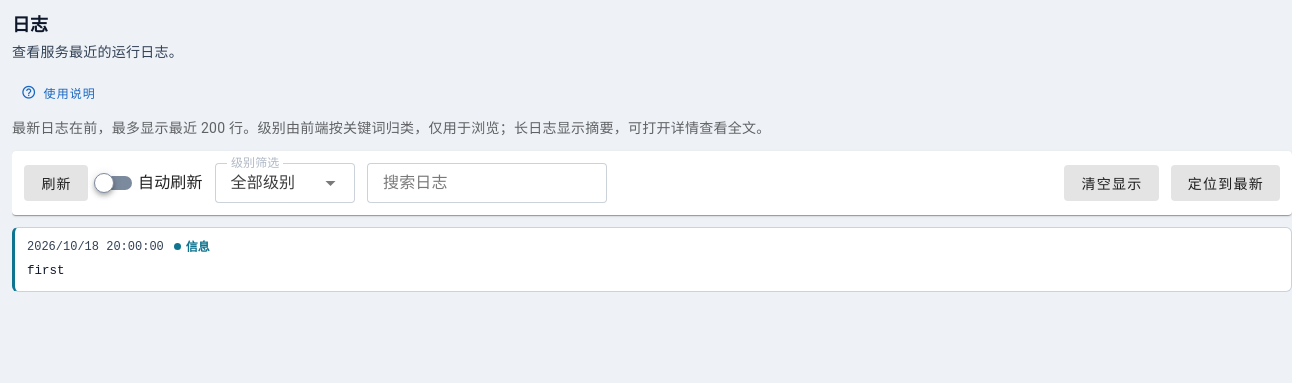
Test: LogsPage › 增量追加而非整表替换
What coordinates should you click on to do the following:
click the button with test id "refresh"
I would click on:
 (56, 183)
Its box is [24,165,88,201].
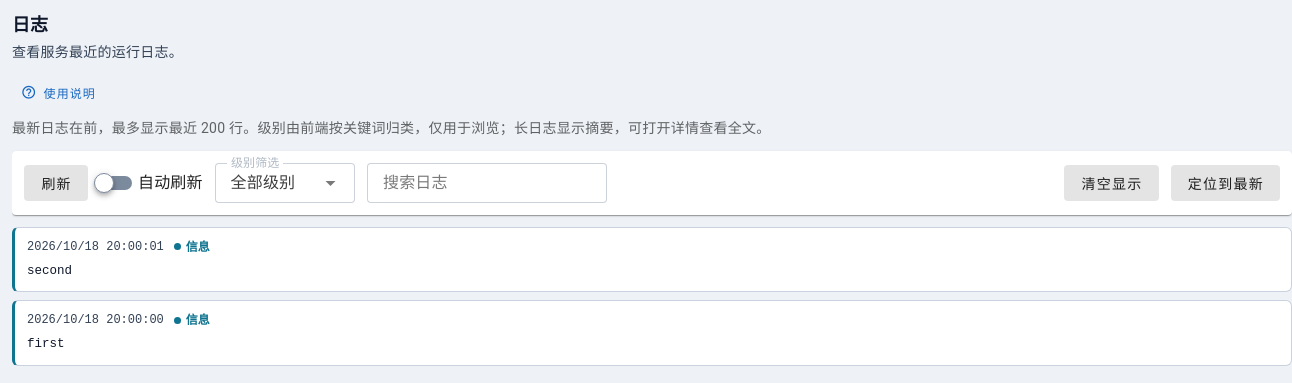
Expected: the text "first" is shown, [27,337,64,351]
Result: the text "second" is shown at [27,264,72,278]
